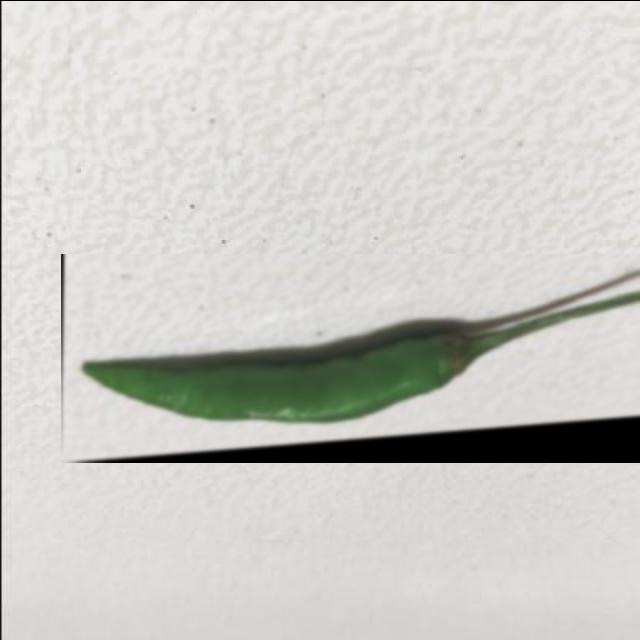Pepper: (61, 253, 640, 462)
